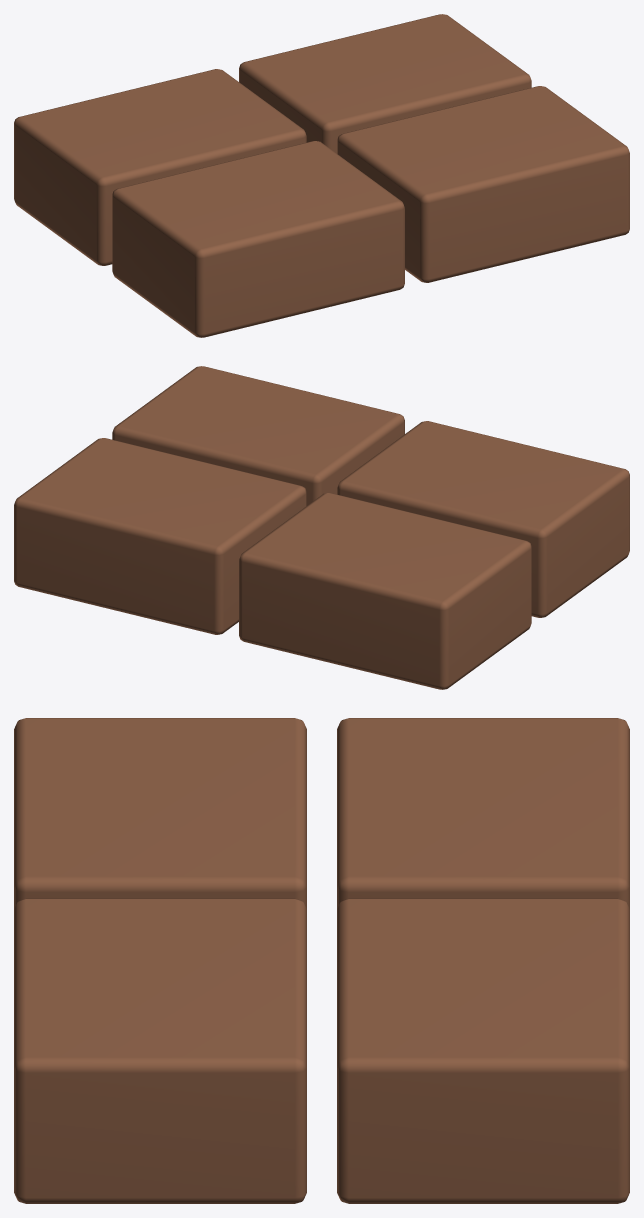
Rendered from load_bricks.glb.
3 renders of one model, top to bottom at view 1: azimuth 30°, elevation 25°; view 2: azimuth 150°, elevation 25°; view 3: azimuth 270°, elevation 25°, orthographic. The views are drawn at different scales.
Visible parts, largest first — view 1: Load_bricks surface; view 2: Load_bricks surface; view 3: Load_bricks surface.
Part boxes in pixels (x1,y1,x2,y2): Load_bricks surface: [14, 14, 629, 337]; Load_bricks surface: [14, 366, 629, 689]; Load_bricks surface: [14, 718, 629, 1203].
Size of the model in its own units: 0.552 by 0.108 by 0.412.
